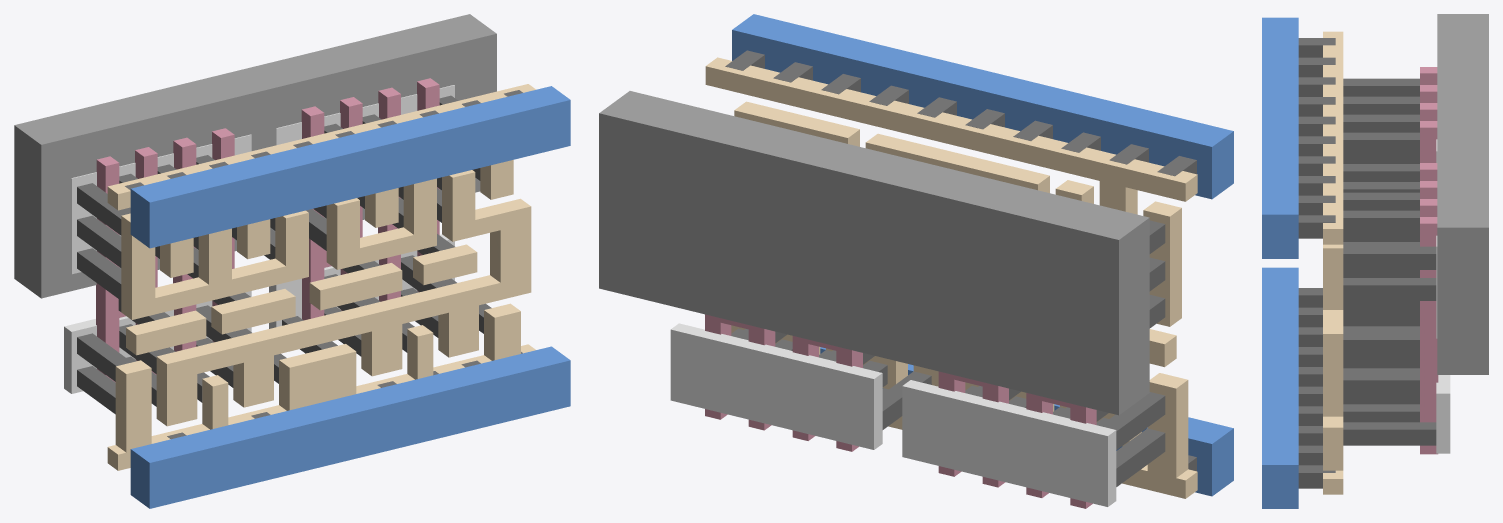
File: sky130_fd_sc_hd__nor4_2.gds.gltf
3 views of the same model, side by side, from view 1: azimuth 30°, elevation 25°; view 2: azimuth 150°, elevation 25°; view 3: azimuth 270°, elevation 25° (orthographic). The views are drawn at different scales.
Parts seen in each view (by area): view 1: sky130_fd_sc_hd__nor4_2_li1, sky130_fd_sc_hd__nor4_2_met1, sky130_fd_sc_hd__nor4_2_nwell, sky130_fd_sc_hd__nor4_2_licon, sky130_fd_sc_hd__nor4_2_poly, sky130_fd_sc_hd__nor4_2_diff, sky130_fd_sc_hd__nor4_2_mcon; view 2: sky130_fd_sc_hd__nor4_2_nwell, sky130_fd_sc_hd__nor4_2_diff, sky130_fd_sc_hd__nor4_2_li1, sky130_fd_sc_hd__nor4_2_met1, sky130_fd_sc_hd__nor4_2_licon, sky130_fd_sc_hd__nor4_2_mcon, sky130_fd_sc_hd__nor4_2_poly; view 3: sky130_fd_sc_hd__nor4_2_licon, sky130_fd_sc_hd__nor4_2_nwell, sky130_fd_sc_hd__nor4_2_met1, sky130_fd_sc_hd__nor4_2_mcon, sky130_fd_sc_hd__nor4_2_li1, sky130_fd_sc_hd__nor4_2_poly, sky130_fd_sc_hd__nor4_2_diff.
Boxes of the visible parts, box(x1,y1,x2,y2) form: sky130_fd_sc_hd__nor4_2_li1: box(107, 84, 535, 470); sky130_fd_sc_hd__nor4_2_met1: box(130, 86, 570, 508); sky130_fd_sc_hd__nor4_2_nwell: box(14, 14, 496, 298); sky130_fd_sc_hd__nor4_2_licon: box(77, 95, 491, 414); sky130_fd_sc_hd__nor4_2_poly: box(96, 78, 439, 382); sky130_fd_sc_hd__nor4_2_diff: box(64, 85, 454, 393); sky130_fd_sc_hd__nor4_2_mcon: box(125, 90, 522, 439); sky130_fd_sc_hd__nor4_2_nwell: box(599, 91, 1149, 415); sky130_fd_sc_hd__nor4_2_diff: box(670, 323, 1116, 506); sky130_fd_sc_hd__nor4_2_li1: box(705, 57, 1197, 498); sky130_fd_sc_hd__nor4_2_met1: box(732, 14, 1233, 496); sky130_fd_sc_hd__nor4_2_licon: box(731, 220, 1165, 486); sky130_fd_sc_hd__nor4_2_mcon: box(725, 50, 1196, 471); sky130_fd_sc_hd__nor4_2_poly: box(705, 314, 1096, 508); sky130_fd_sc_hd__nor4_2_licon: box(1343, 78, 1436, 445); sky130_fd_sc_hd__nor4_2_nwell: box(1437, 14, 1488, 374); sky130_fd_sc_hd__nor4_2_met1: box(1262, 17, 1298, 508); sky130_fd_sc_hd__nor4_2_mcon: box(1298, 38, 1335, 488); sky130_fd_sc_hd__nor4_2_li1: box(1323, 31, 1343, 494); sky130_fd_sc_hd__nor4_2_poly: box(1420, 67, 1438, 454); sky130_fd_sc_hd__nor4_2_diff: box(1436, 139, 1450, 453).
Bounding box in the file's own units: 4.98 × 3.2 × 2.24.
